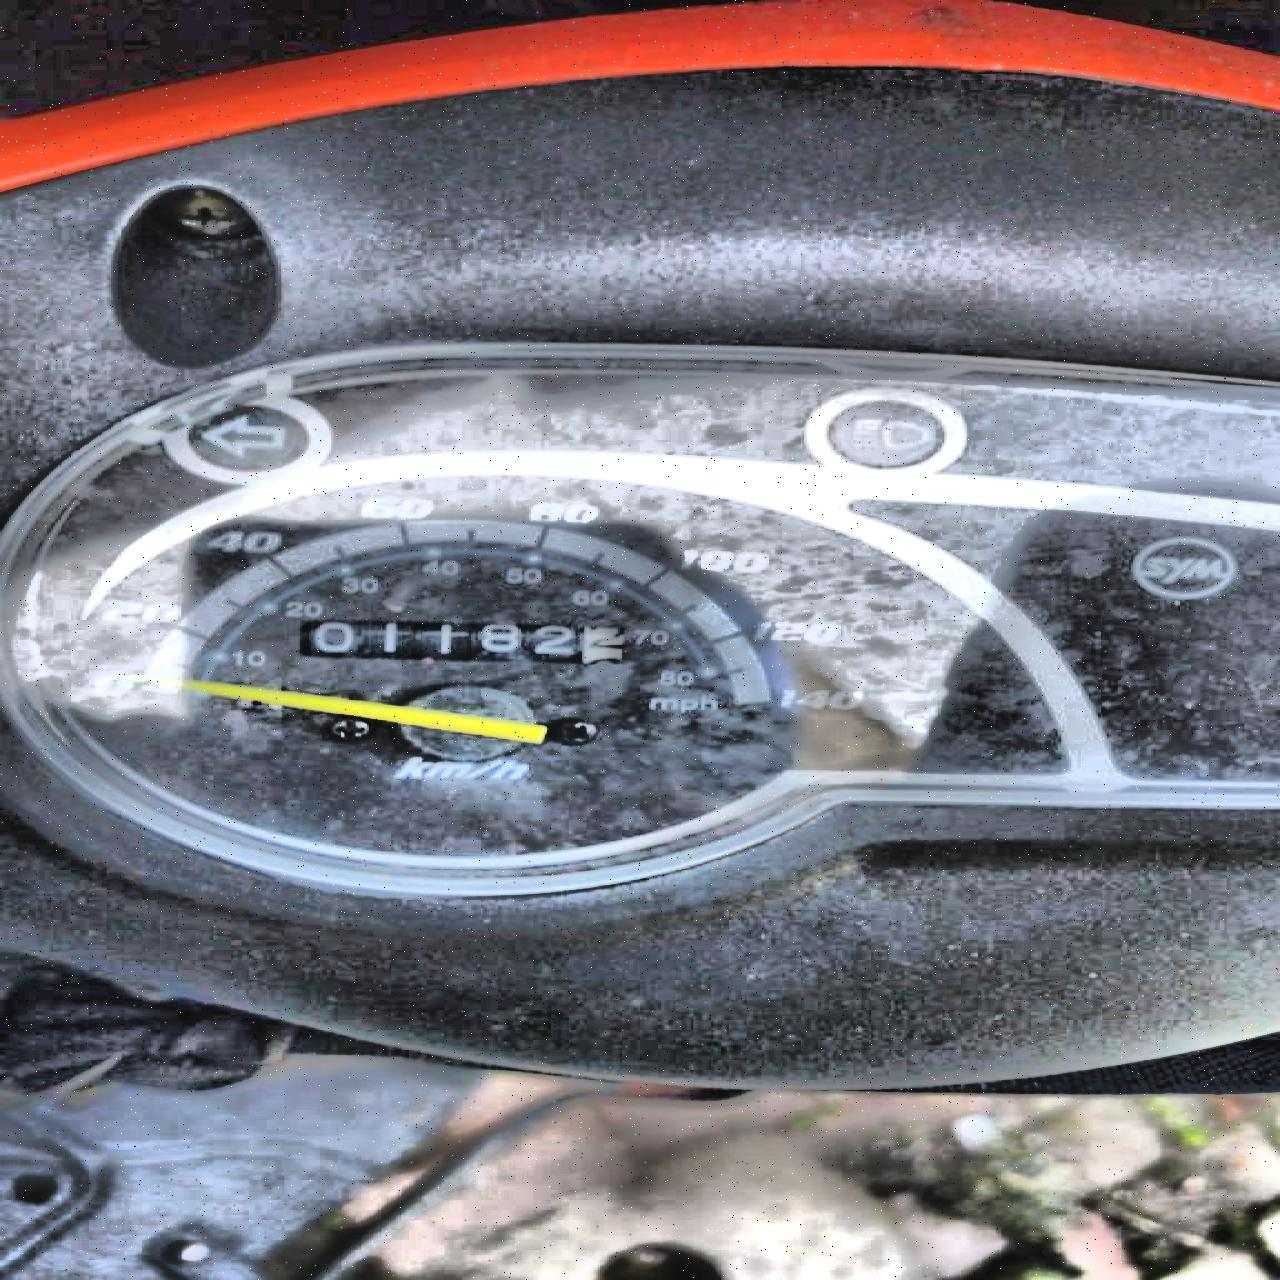0: (308, 620, 353, 652)
1: (424, 621, 458, 655), (374, 619, 402, 653)
2: (529, 624, 573, 654), (586, 624, 626, 648)
8: (474, 624, 523, 653)
odometer: (288, 614, 633, 667)
